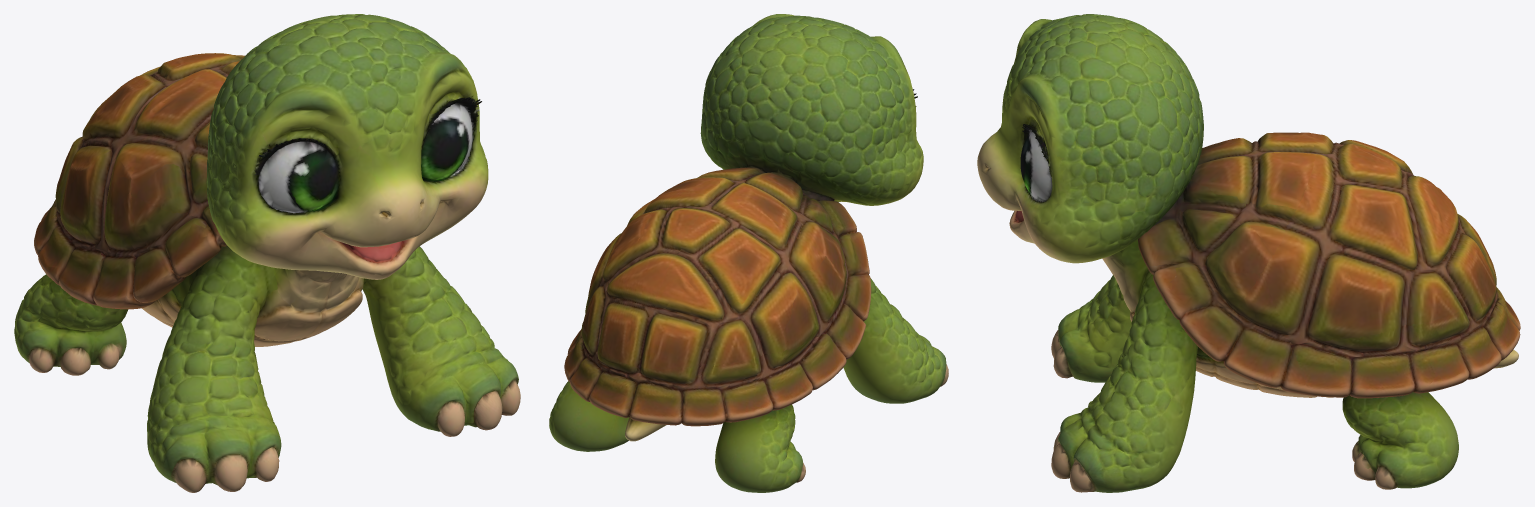
File: moosilda_3d.glb
The picture shows the model from 3 angles, left to right: view 1: azimuth 30°, elevation 25°; view 2: azimuth 150°, elevation 25°; view 3: azimuth 270°, elevation 25°; orthographic projection. The views are drawn at different scales.
Parts seen in each view (by area): view 1: tripo_node_cb6d1376-0d55-4832-8550-1a5d724ba89c; view 2: tripo_node_cb6d1376-0d55-4832-8550-1a5d724ba89c; view 3: tripo_node_cb6d1376-0d55-4832-8550-1a5d724ba89c.
Part boxes in pixels (x1,y1,x2,y2): tripo_node_cb6d1376-0d55-4832-8550-1a5d724ba89c: [14, 14, 520, 492]; tripo_node_cb6d1376-0d55-4832-8550-1a5d724ba89c: [549, 14, 948, 492]; tripo_node_cb6d1376-0d55-4832-8550-1a5d724ba89c: [977, 14, 1520, 492].
Size of the model in its own units: 0.6911 by 0.8026 by 0.9995.
Materials: 1 (1 with a texture image).
